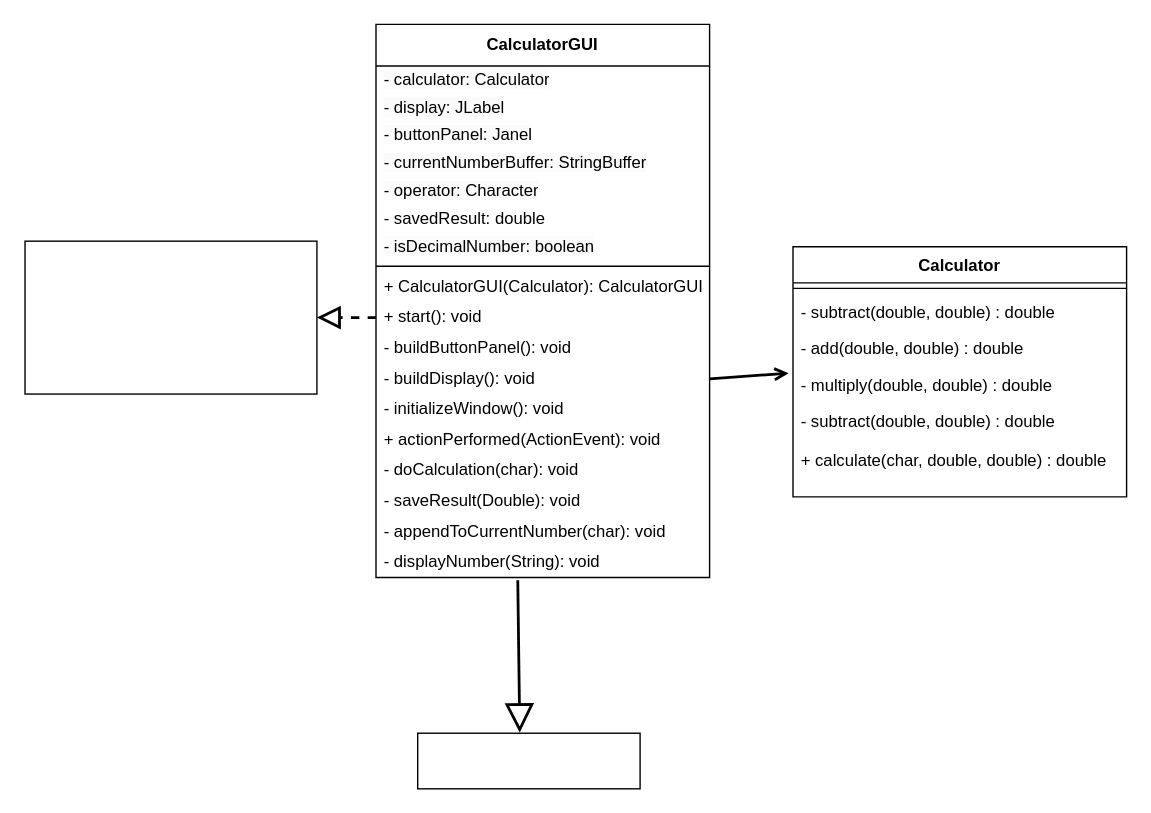
The diagram is 1151 pixels wide and 813 high, and some of its shapes have lost their labels. The centre of each missing label's shape, as x and y in pixels:
<<Interface>> ActionListener + actionPerformed(ActionEvent): void: the point at 170,317
JFrame: the point at 528,760
